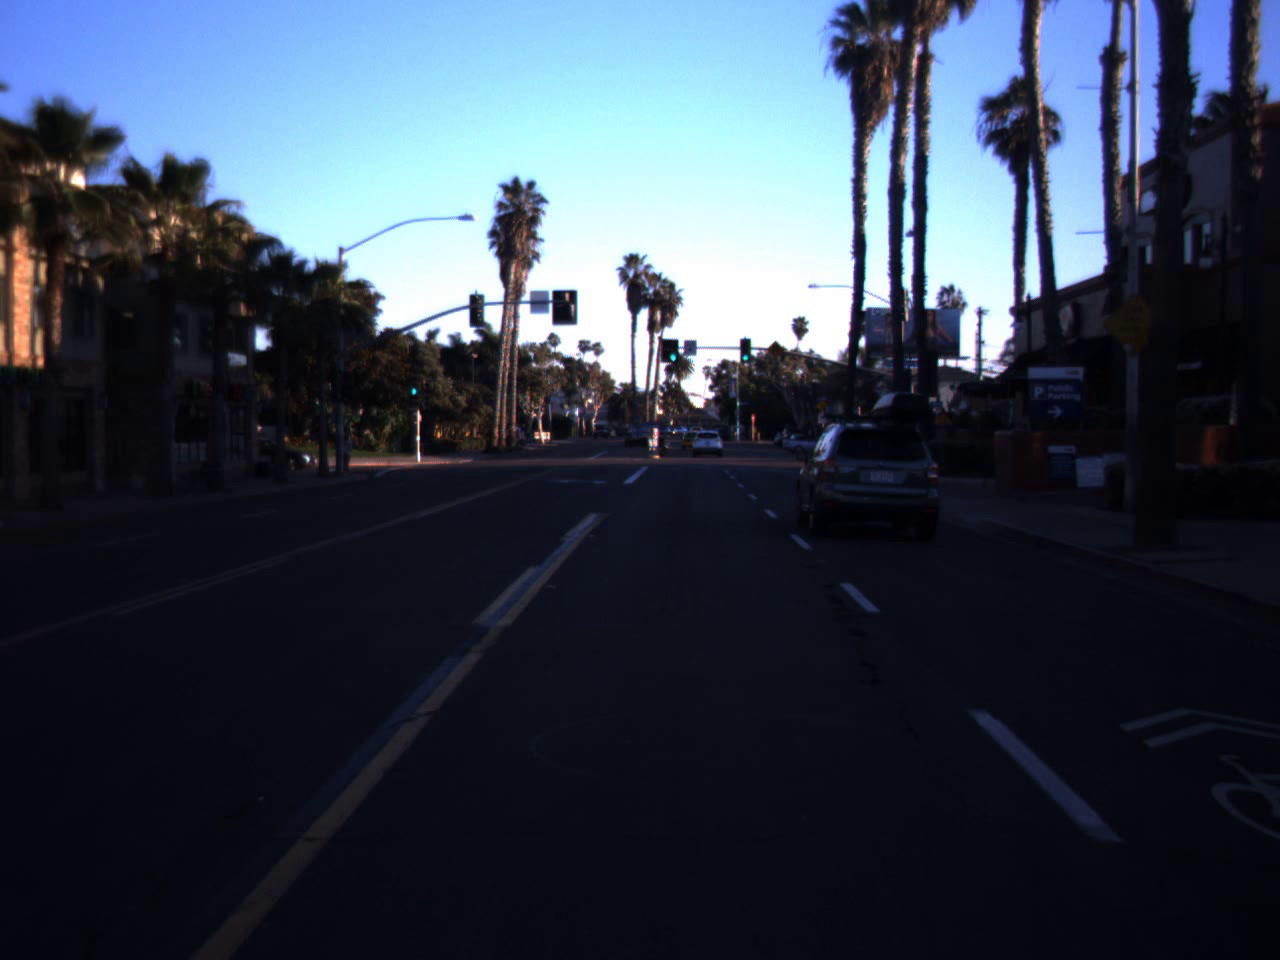go: (667, 334, 679, 364), (408, 376, 420, 396), (740, 342, 752, 362)
